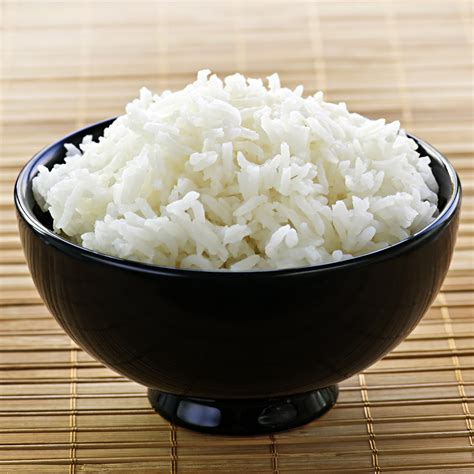rice: (40, 75, 435, 252)
